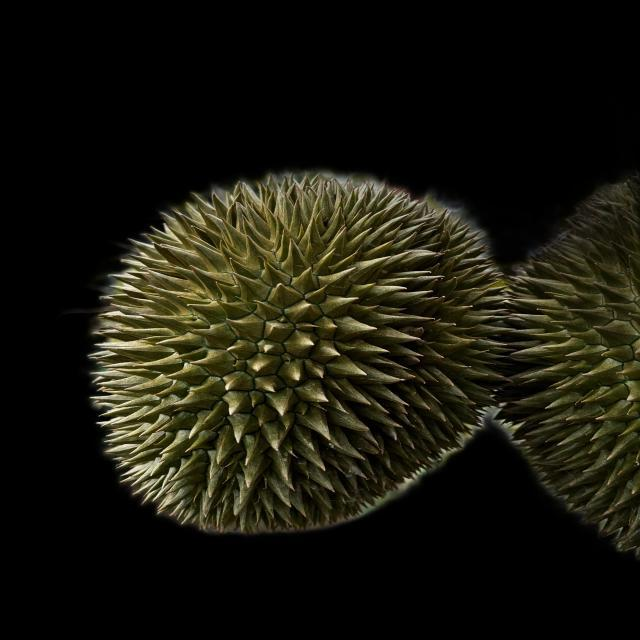immature: (83, 164, 507, 534)
